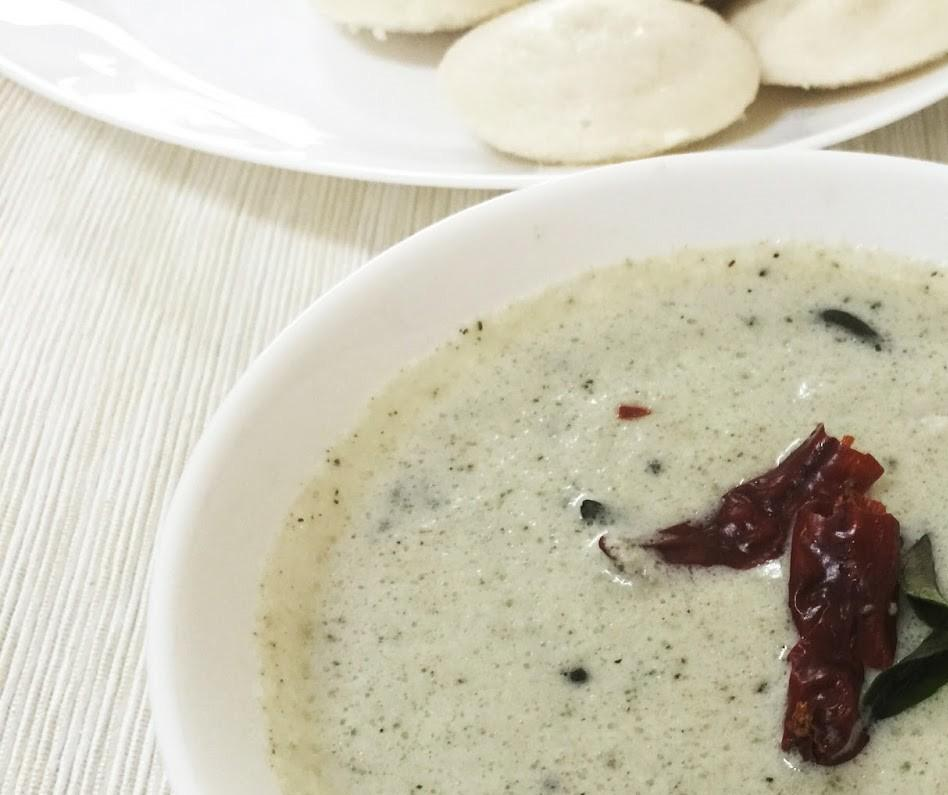CoconutChutney: (246, 228, 948, 795)
